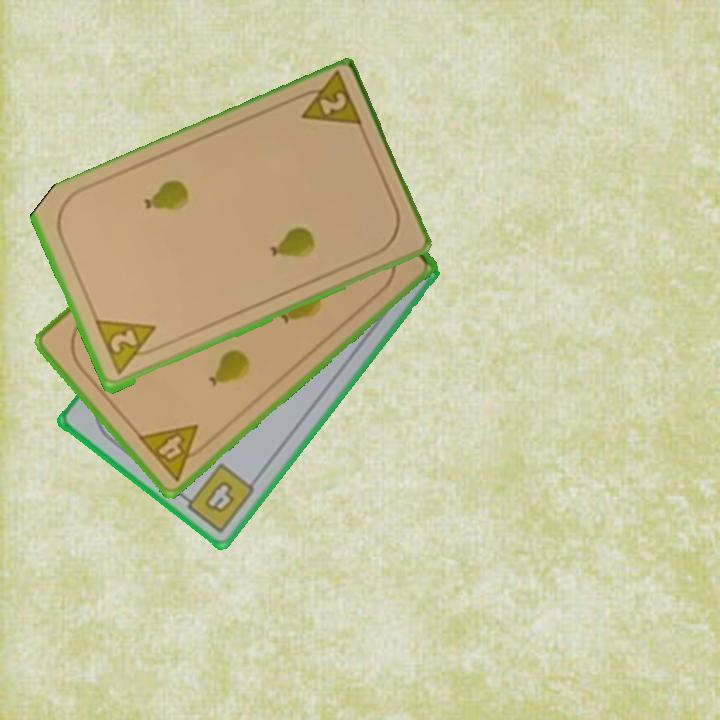2p: (288, 71, 366, 133), (92, 316, 165, 380)
4b: (176, 460, 258, 536)
4p: (134, 421, 215, 484)
